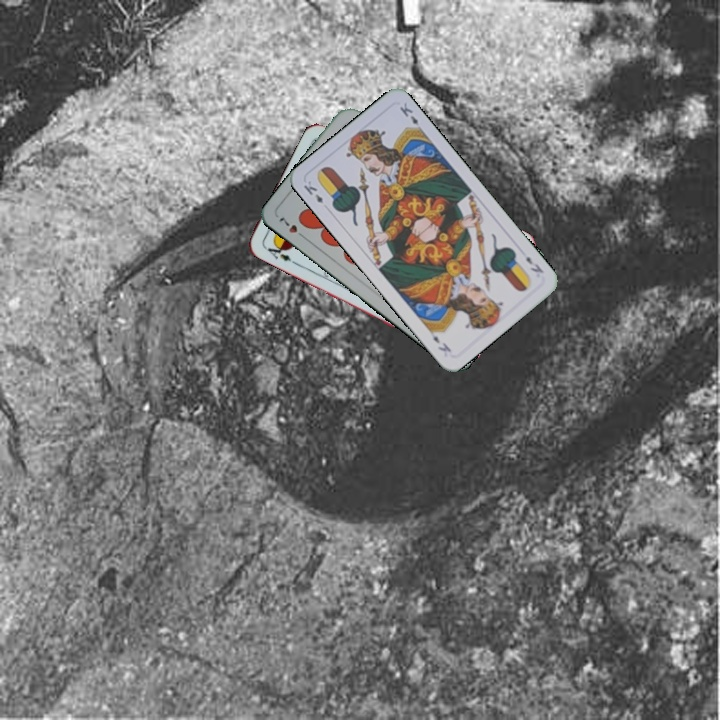EA: (260, 239, 298, 267)
EK: (299, 176, 326, 206), (522, 252, 546, 276)
H7: (275, 213, 309, 242)
